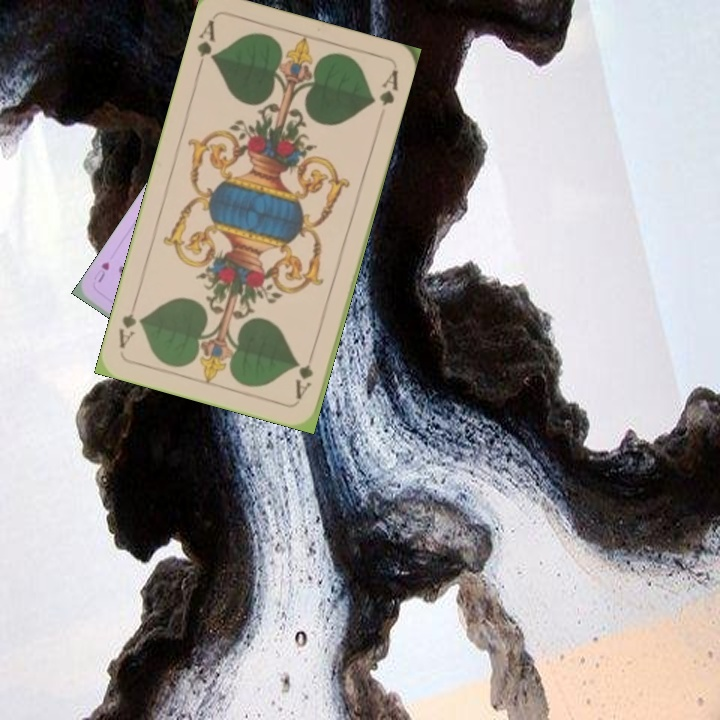GA: (193, 15, 218, 74), (291, 345, 316, 402)
